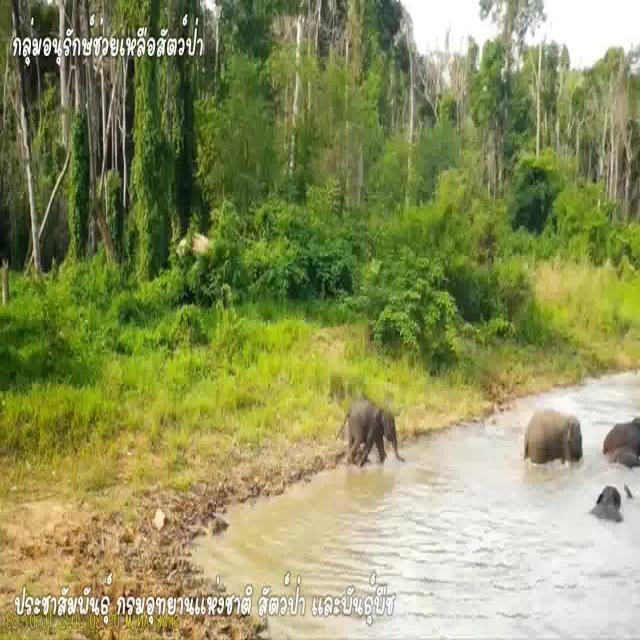Elephant: (521, 402, 583, 468), (340, 395, 399, 461), (602, 411, 640, 465), (596, 481, 634, 532)
